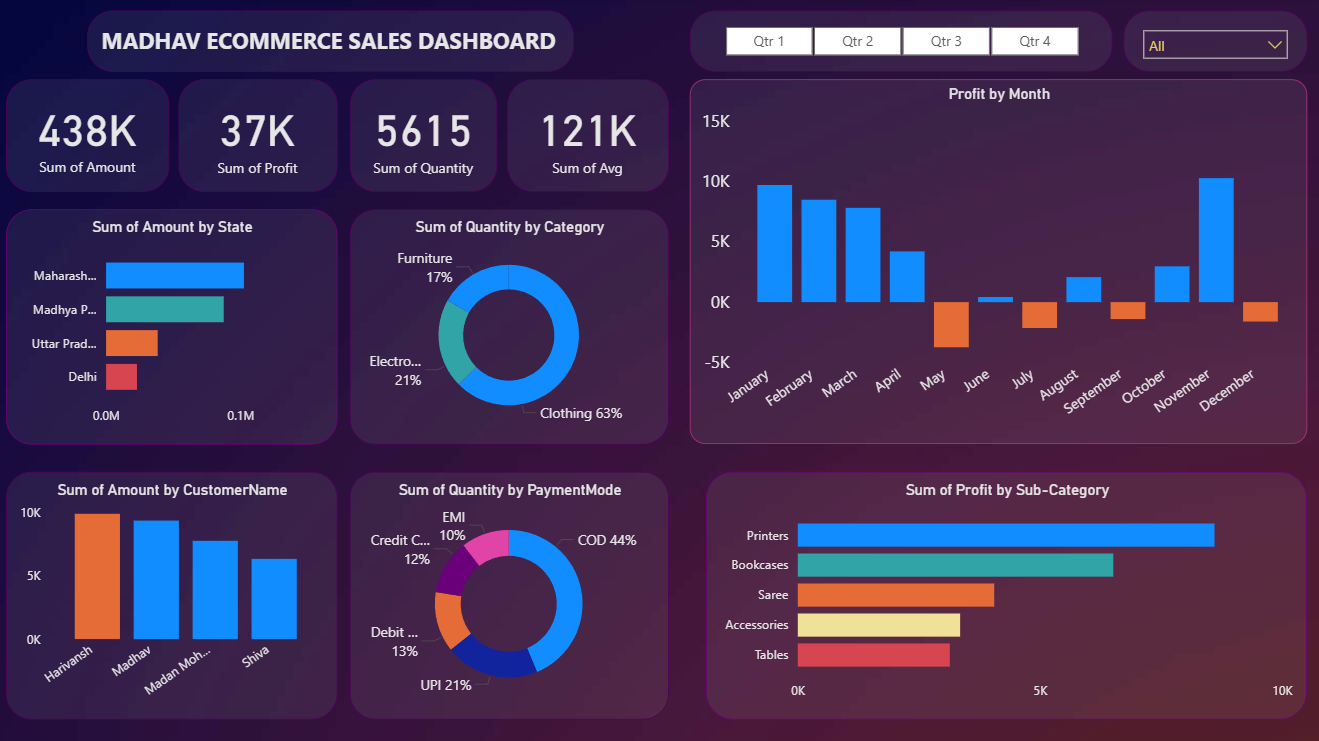

Layout of this report page (visuals, bound fields, positions):
{"tool":"powerbi","page":{"name":"Page 1","canvas":[1280,720],"ordinal":0},"visuals":[{"type":"textbox","box":[88.1,12.1,469.3,59.1],"z":0},{"type":"columnChart","title":"Profit by Month","fields":{"Category":["Orders.Order Date.Variation.Date Hierarchy.Month"],"Y":["Details.Profit"]},"box":[669.6,78.4,596,352.3],"z":1000},{"type":"barChart","fields":{"Category":["Details.Sub-Category"],"Y":["Details.Profit"]},"box":[685.3,457.2,580.3,238.9],"z":2000},{"type":"donutChart","fields":{"Category":["Details.Category"],"Y":["Details.Quantity"]},"box":[341.4,203.9,307.6,226.8],"z":3000},{"type":"donutChart","fields":{"Category":["Details.PaymentMode"],"Y":["Details.Quantity"]},"box":[341.4,457.2,307.6,238.9],"z":4000},{"type":"card","fields":{"Values":["Details.Amount"]},"box":[9.6,78.2,157.8,108.4],"z":5000},{"type":"card","fields":{"Values":["Details.Profit"]},"box":[176.1,78.4,153.2,108.6],"z":6000},{"type":"card","fields":{"Values":["Details.Quantity"]},"box":[341.4,78.4,142.4,108.6],"z":7000},{"type":"card","fields":{"Values":["Details.Avg"]},"box":[493.4,78.4,155.6,108.6],"z":8000},{"type":"barChart","fields":{"Y":["Details.Amount"],"Category":["Orders.State"]},"box":[9.7,203.9,319.7,226.8],"z":9000},{"type":"columnChart","fields":{"Category":["Orders.CustomerName"],"Y":["Details.Amount"]},"box":[9.7,457.2,319.7,238.9],"z":10000},{"type":"slicer","fields":{"Values":["Orders.Order Date.Variation.Date Hierarchy.Quarter"]},"box":[669.6,12.1,407.8,59.1],"z":11000},{"type":"slicer","fields":{"Values":["Orders.State"]},"box":[1088.2,12.1,177.3,59.1],"z":12000}]}

Visuals, with their boxes in screenshot pixels (x1, y1, x2, y2), scaled from the page's 1280x720 canvas onto the 1319x741 screenshot:
textbox: [x1=91, y1=12, x2=574, y2=73]
"Profit by Month" columnChart: [x1=690, y1=81, x2=1304, y2=443]
barChart - Details.Sub-Category x Details.Profit: [x1=706, y1=471, x2=1304, y2=716]
donutChart - Details.Category x Details.Quantity: [x1=352, y1=210, x2=669, y2=443]
donutChart - Details.PaymentMode x Details.Quantity: [x1=352, y1=471, x2=669, y2=716]
card - Details.Amount: [x1=10, y1=80, x2=173, y2=192]
card - Details.Profit: [x1=181, y1=81, x2=339, y2=192]
card - Details.Quantity: [x1=352, y1=81, x2=499, y2=192]
card - Details.Avg: [x1=508, y1=81, x2=669, y2=192]
barChart - Details.Amount x Orders.State: [x1=10, y1=210, x2=339, y2=443]
columnChart - Orders.CustomerName x Details.Amount: [x1=10, y1=471, x2=339, y2=716]
slicer - Orders.Order Date.Variation.Date Hierarchy.Quarter: [x1=690, y1=12, x2=1110, y2=73]
slicer - Orders.State: [x1=1121, y1=12, x2=1304, y2=73]
